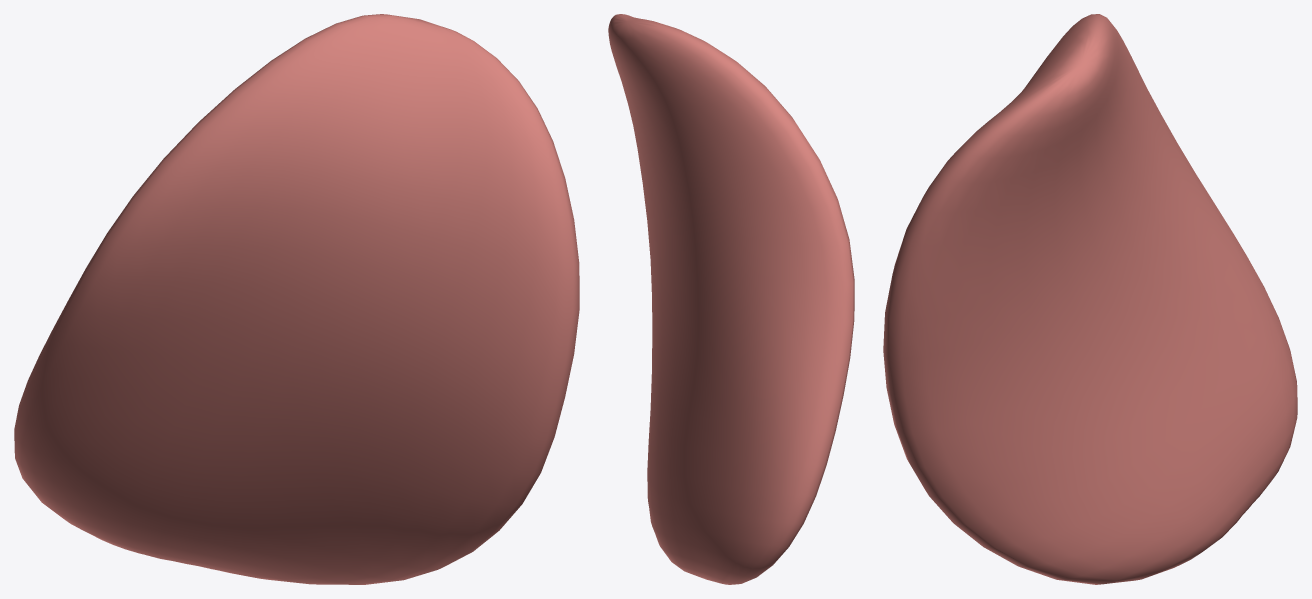
The picture shows the model from 3 angles, left to right: view 1: azimuth 30°, elevation 25°; view 2: azimuth 150°, elevation 25°; view 3: azimuth 270°, elevation 25°; orthographic projection. The views are drawn at different scales.
Parts seen in each view (by area): view 1: ZA_e84e5478ef30ea2d; view 2: ZA_e84e5478ef30ea2d; view 3: ZA_e84e5478ef30ea2d.
Part boxes in pixels (bbox=[...]): ZA_e84e5478ef30ea2d: bbox=[14, 14, 579, 584]; ZA_e84e5478ef30ea2d: bbox=[608, 14, 854, 584]; ZA_e84e5478ef30ea2d: bbox=[883, 14, 1297, 584].
Bounding box in the file's own units: 0.0137 × 0.0197 × 0.0132.
